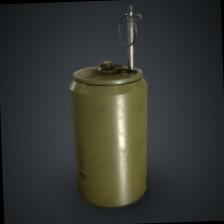OZM-72: (70, 52, 154, 214)
